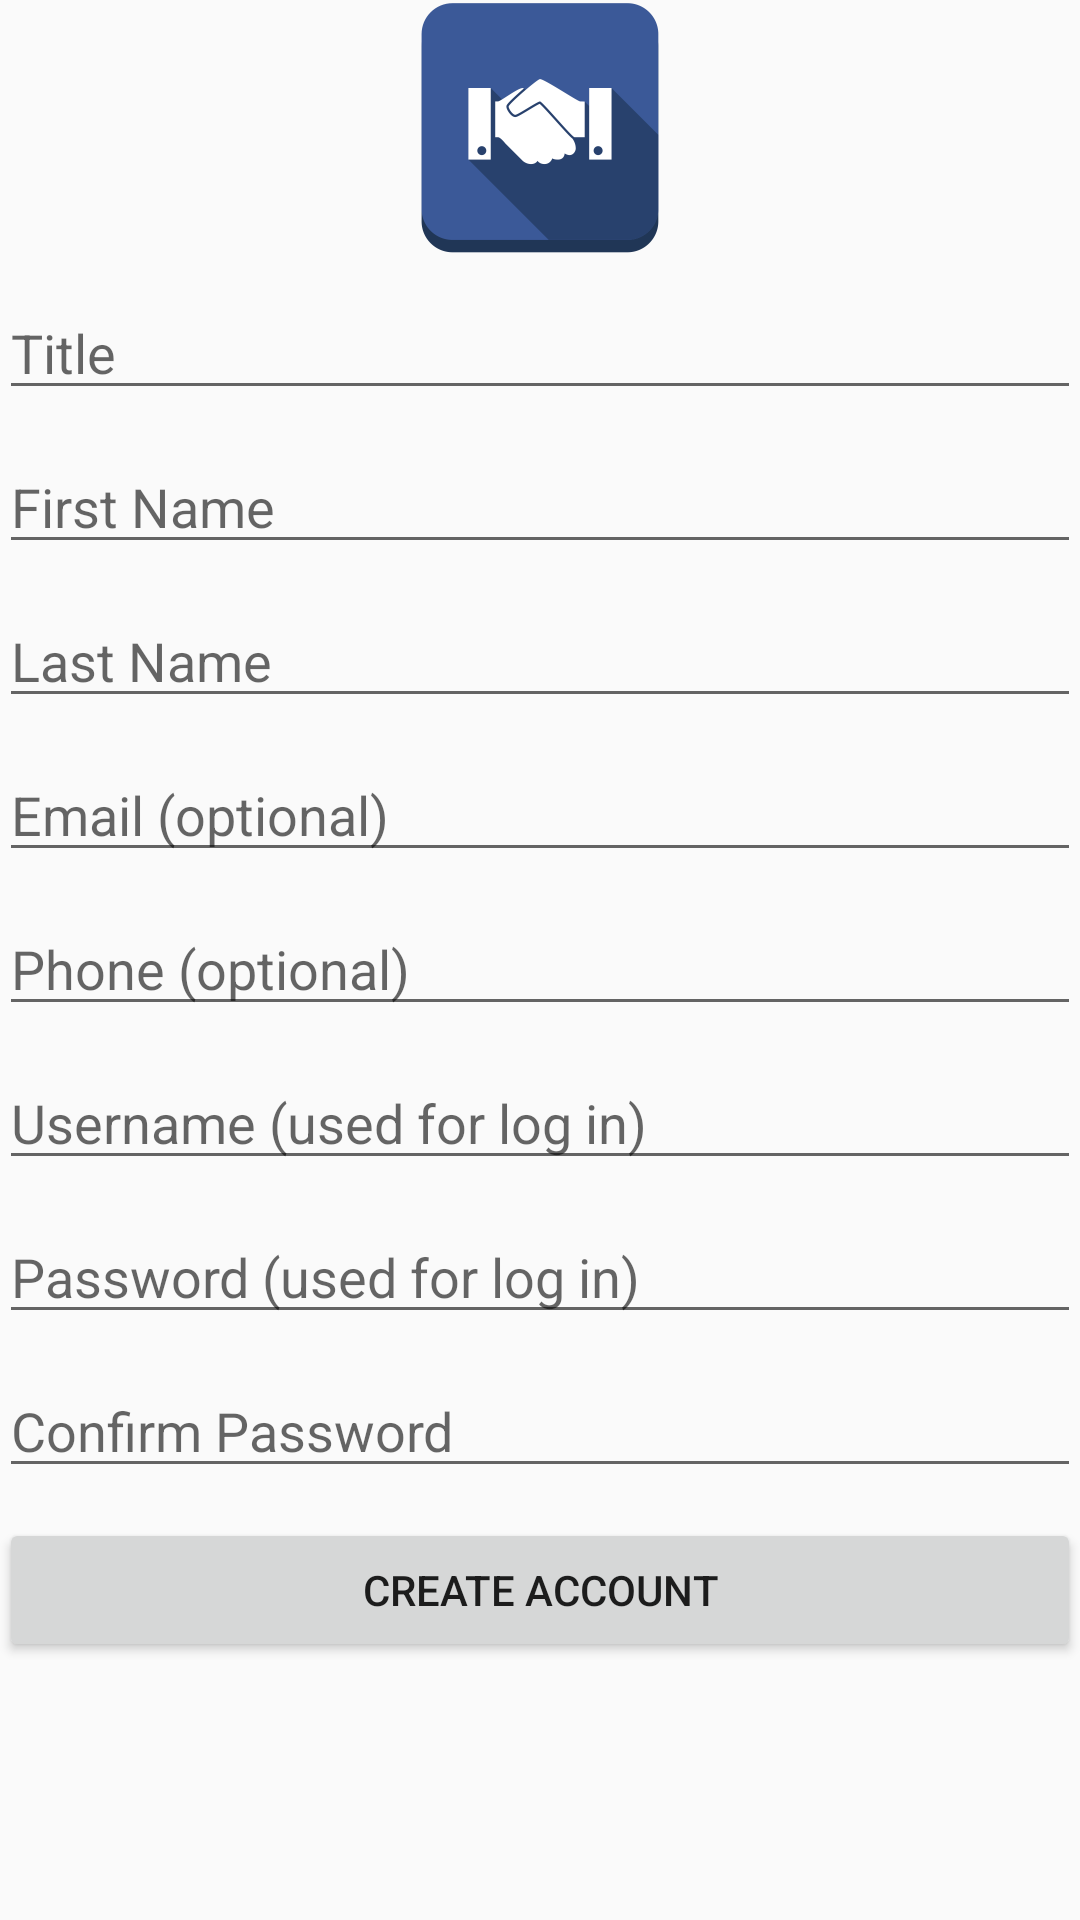

Named icons in this screenshot (1080x1920) and their centers, [x,y]:
handshake: [540,128]
